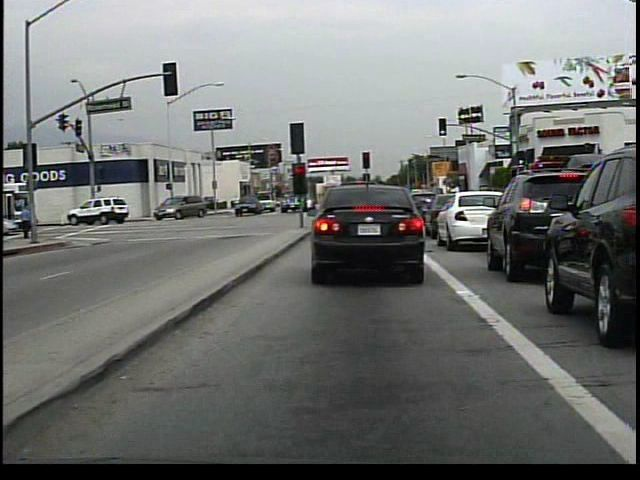person: (19, 202, 34, 244), (233, 192, 243, 207)
